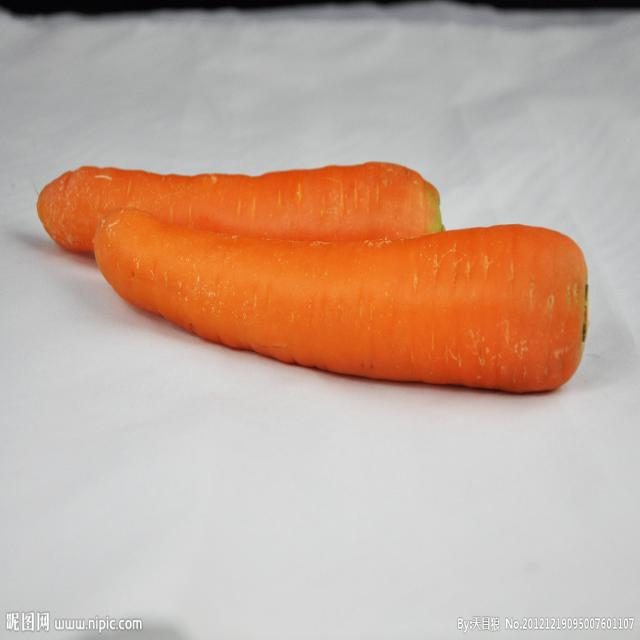Carrot: (97, 208, 588, 398), (34, 160, 444, 257)
